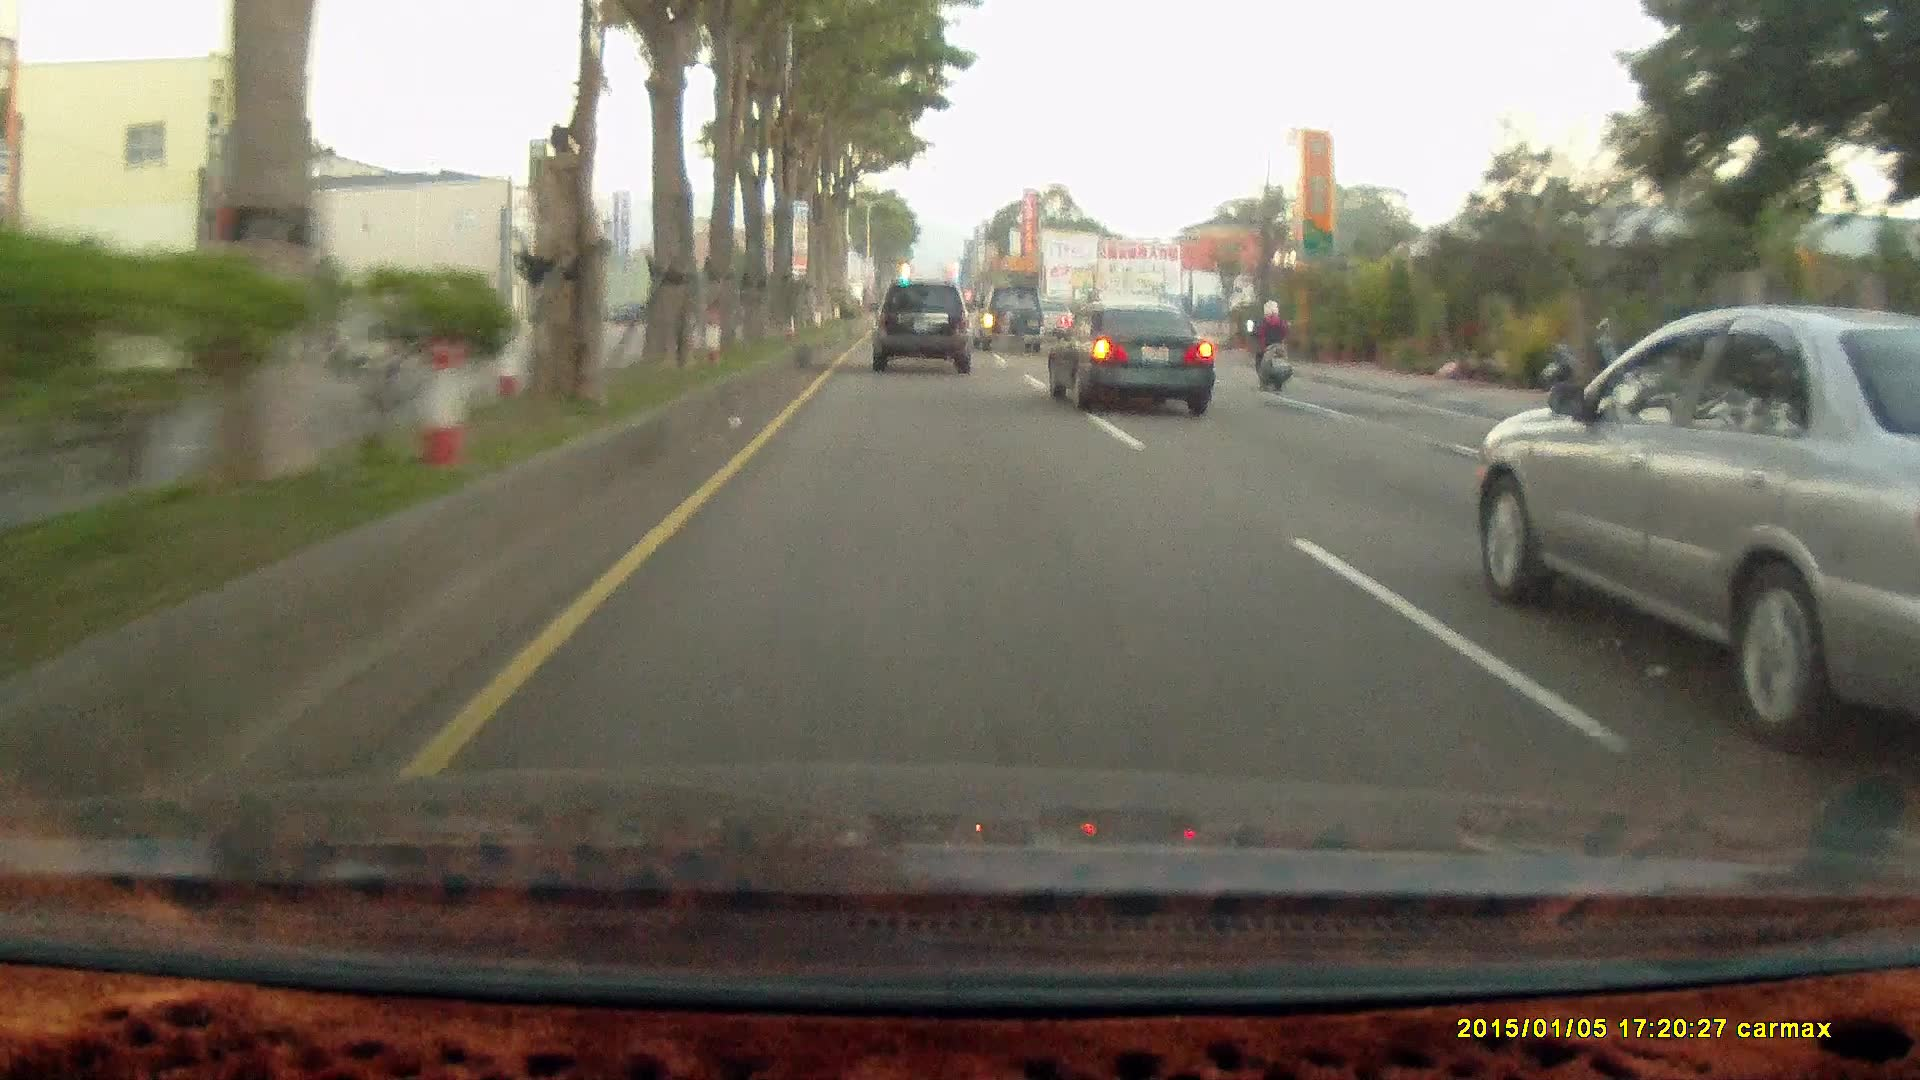rider: (1238, 288, 1306, 407), (1241, 297, 1295, 391)
vehicle: (1464, 296, 1916, 748), (1043, 300, 1219, 415), (1044, 301, 1214, 417), (870, 278, 975, 377), (868, 281, 970, 371), (969, 280, 1041, 352), (973, 283, 1047, 354)
